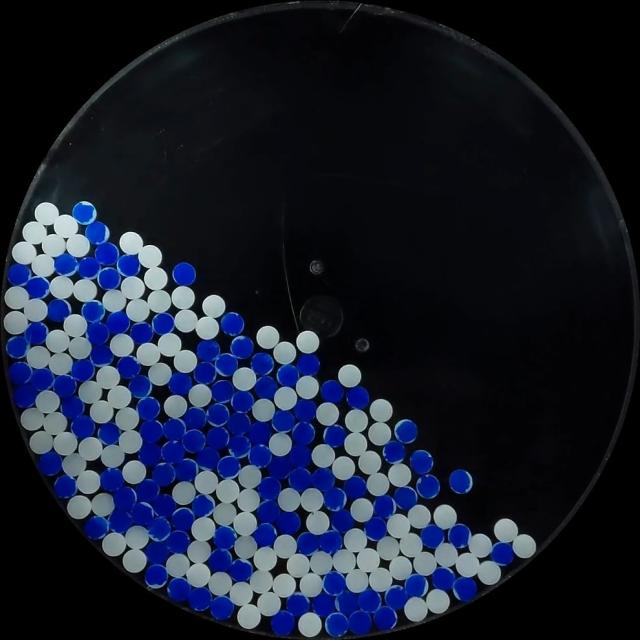pmmma-azul: (270, 610, 296, 636), (38, 450, 63, 476), (165, 529, 190, 555), (448, 468, 473, 494), (12, 383, 38, 408), (99, 467, 124, 492), (209, 595, 234, 620), (187, 586, 212, 611), (191, 493, 216, 518), (431, 566, 456, 591), (393, 418, 418, 443), (452, 576, 477, 601), (171, 506, 195, 532), (324, 612, 348, 638), (112, 486, 136, 512), (136, 479, 160, 505), (206, 402, 230, 427), (248, 443, 272, 468), (182, 428, 206, 453), (286, 593, 310, 618), (195, 446, 220, 470), (393, 486, 418, 510), (205, 426, 230, 450), (71, 414, 95, 439), (248, 420, 272, 445), (139, 419, 164, 443), (53, 252, 78, 276), (94, 242, 119, 266), (208, 548, 232, 573), (311, 467, 335, 492), (47, 298, 71, 323), (404, 573, 428, 598), (373, 605, 397, 630), (161, 438, 185, 463), (144, 540, 169, 564), (144, 564, 168, 589), (173, 458, 198, 482), (348, 610, 372, 635), (72, 201, 97, 225), (409, 449, 433, 474), (447, 523, 471, 548), (60, 395, 84, 420), (416, 474, 440, 499), (108, 508, 133, 532), (335, 589, 359, 614), (148, 517, 172, 542), (128, 374, 152, 398), (84, 515, 108, 539), (53, 374, 77, 398), (136, 396, 160, 420), (152, 462, 176, 486), (71, 358, 95, 382), (268, 454, 292, 478), (53, 474, 77, 498), (252, 523, 276, 547), (228, 412, 252, 436), (194, 361, 218, 385), (168, 372, 192, 396), (87, 321, 111, 345), (30, 367, 54, 391), (7, 262, 31, 286), (212, 525, 236, 549), (130, 500, 154, 524), (211, 378, 235, 402), (167, 576, 191, 600), (420, 524, 444, 548), (346, 385, 370, 409), (490, 541, 514, 565), (292, 421, 316, 445), (254, 375, 278, 399), (106, 310, 130, 334), (276, 510, 300, 534), (256, 498, 280, 522), (312, 592, 336, 616), (228, 434, 252, 458), (230, 335, 254, 359), (257, 476, 280, 501), (372, 494, 395, 519), (323, 571, 346, 596), (344, 475, 367, 500), (220, 312, 245, 335), (321, 379, 344, 404), (85, 222, 110, 245), (217, 455, 240, 479), (172, 262, 196, 285), (357, 588, 380, 612), (364, 516, 387, 540), (319, 530, 342, 554), (9, 361, 32, 385), (162, 418, 186, 441), (272, 409, 296, 432), (251, 352, 274, 376), (323, 487, 346, 511), (117, 253, 140, 277), (26, 276, 49, 300), (385, 585, 408, 609), (229, 558, 252, 582), (382, 440, 405, 464), (81, 300, 105, 323), (25, 321, 48, 345), (230, 390, 253, 414), (296, 353, 321, 375), (336, 591, 358, 616), (185, 406, 207, 431), (331, 509, 354, 532), (215, 353, 238, 376), (323, 424, 346, 447), (97, 422, 120, 445), (276, 364, 299, 387), (97, 267, 120, 290), (78, 256, 101, 279), (297, 532, 320, 555), (196, 339, 220, 361), (116, 356, 140, 378), (89, 344, 113, 366), (6, 335, 28, 359), (138, 443, 162, 465), (130, 322, 153, 344), (294, 399, 316, 422), (152, 312, 174, 334), (153, 494, 175, 516), (288, 468, 310, 490), (289, 445, 312, 466)
